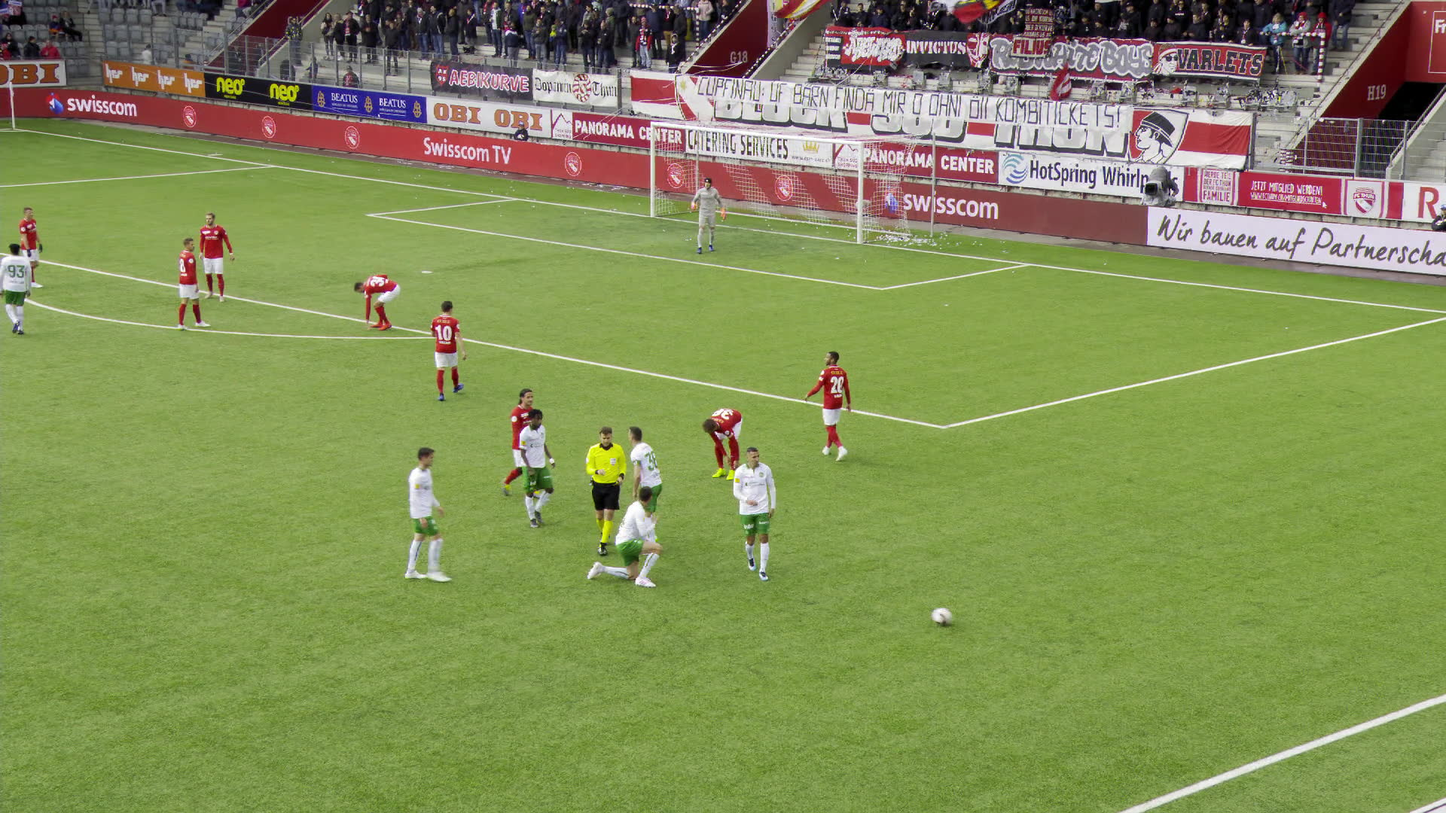ball: (932, 605, 952, 626)
player: (586, 487, 659, 588), (401, 446, 451, 580), (730, 443, 773, 574), (512, 410, 556, 527), (806, 350, 851, 458), (627, 426, 665, 542), (502, 387, 537, 497), (431, 300, 468, 400), (175, 236, 210, 329), (701, 406, 745, 479), (198, 212, 233, 303), (0, 244, 31, 336), (354, 269, 399, 329), (691, 178, 725, 254), (17, 206, 41, 287)
referee: (585, 424, 629, 553)
